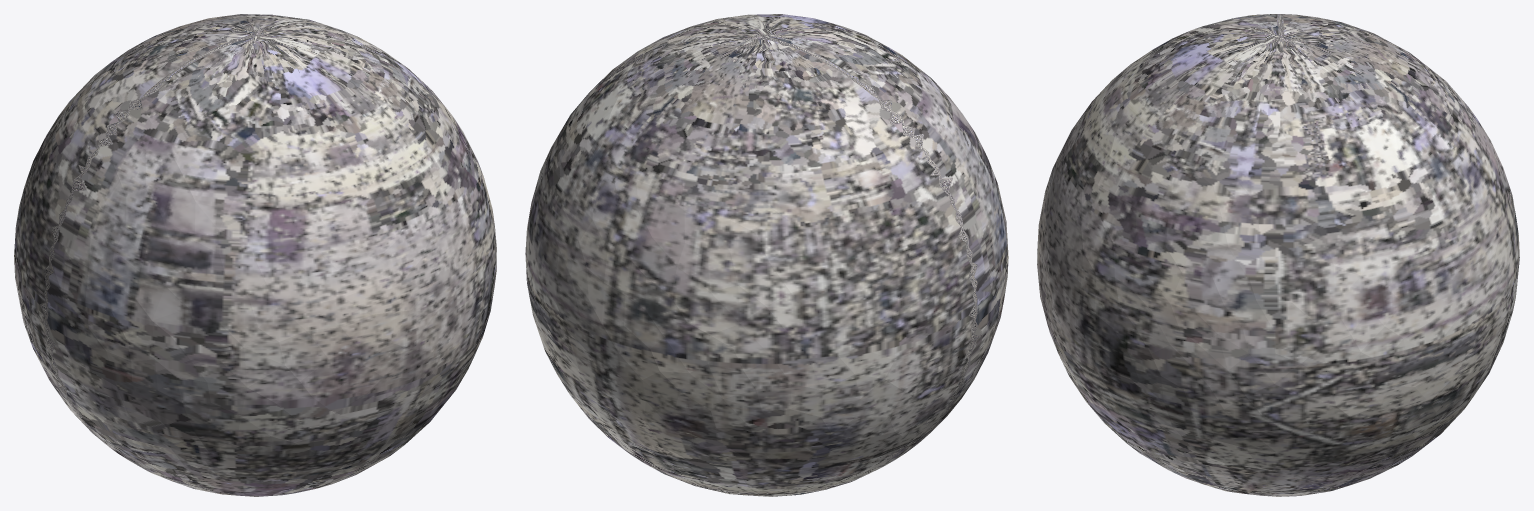
The model's file is bauhaus.obj.
3 renders of one model, left to right at view 1: azimuth 30°, elevation 25°; view 2: azimuth 150°, elevation 25°; view 3: azimuth 270°, elevation 25°, orthographic.
Bounding box in the file's own units: 1 × 1 × 0.9998.
